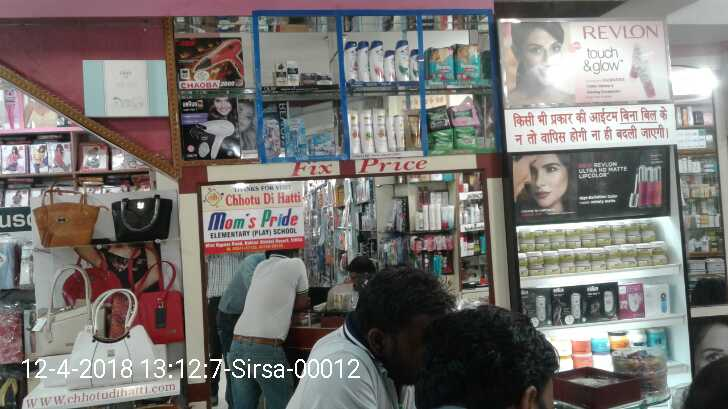venus: (284, 119, 308, 155), (311, 128, 336, 154), (265, 119, 280, 157)
